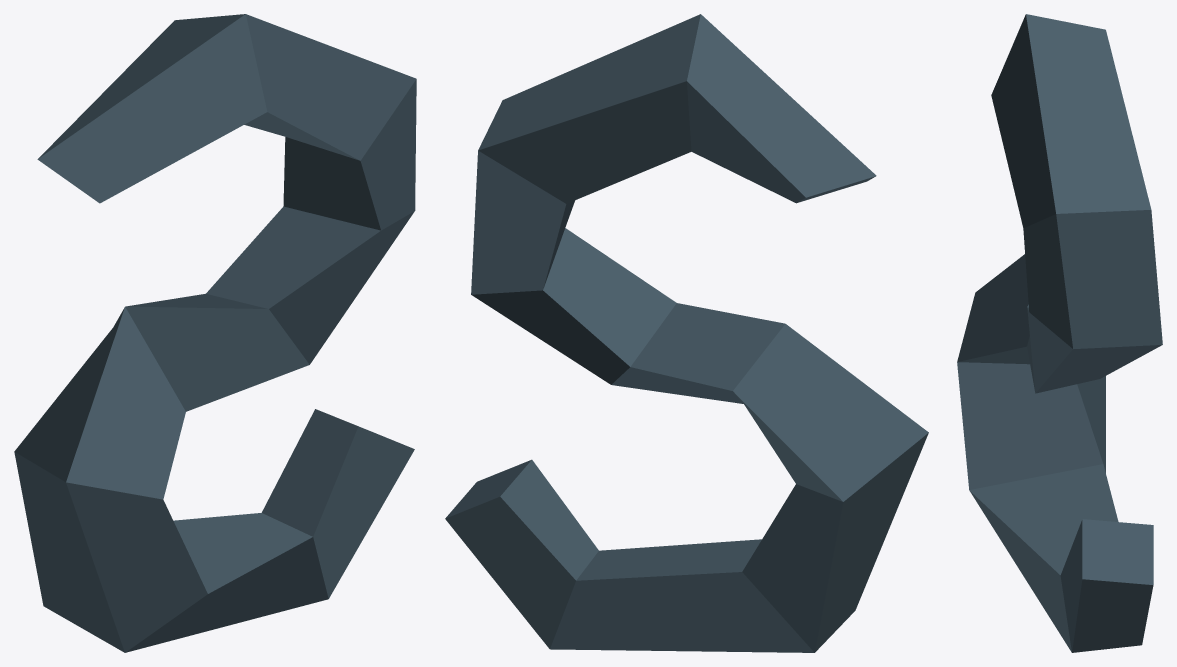
Rendered from lowercase-u.glb.
The picture shows the model from 3 angles, left to right: view 1: azimuth 30°, elevation 25°; view 2: azimuth 150°, elevation 25°; view 3: azimuth 270°, elevation 25°; orthographic projection. The views are drawn at different scales.
Size of the model in its own units: 0.205 by 0.3037 by 0.096.
